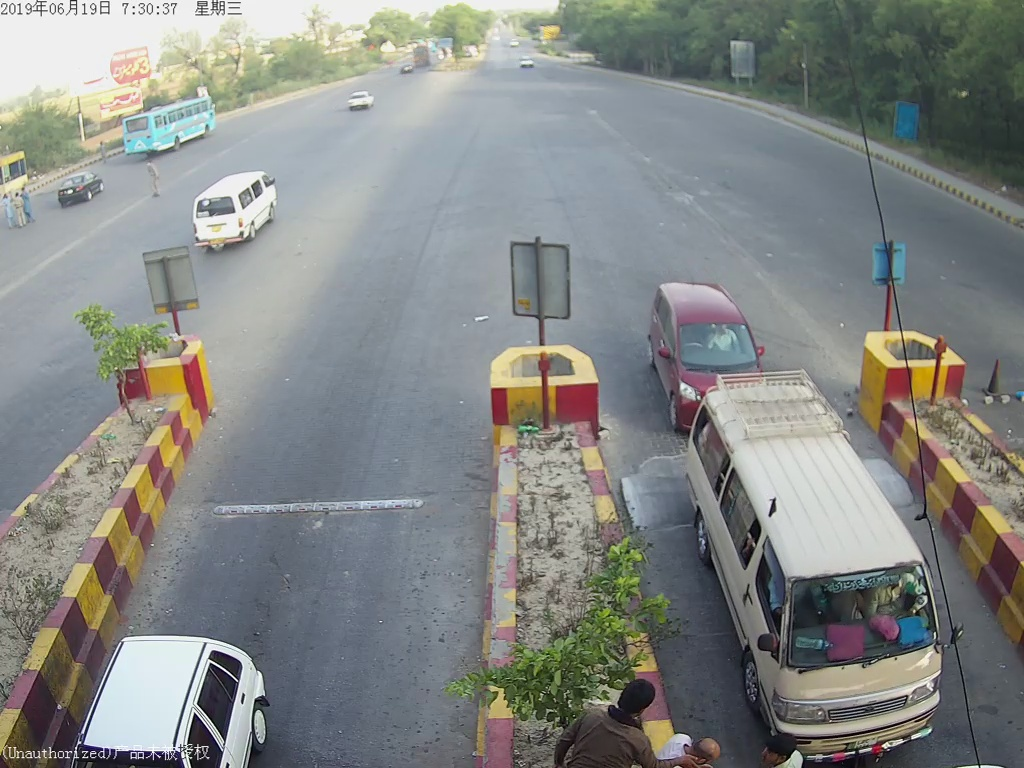Cat-1: (636, 278, 771, 376)
Cat-2: (679, 383, 964, 745)
